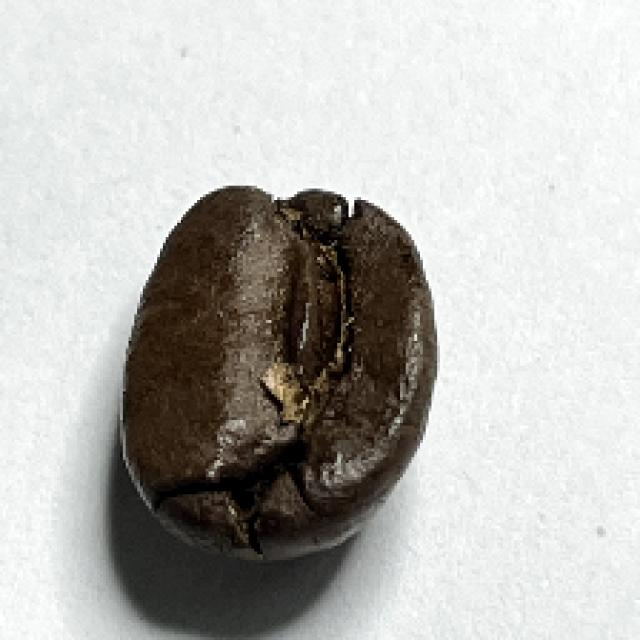bean: (112, 178, 443, 565)
